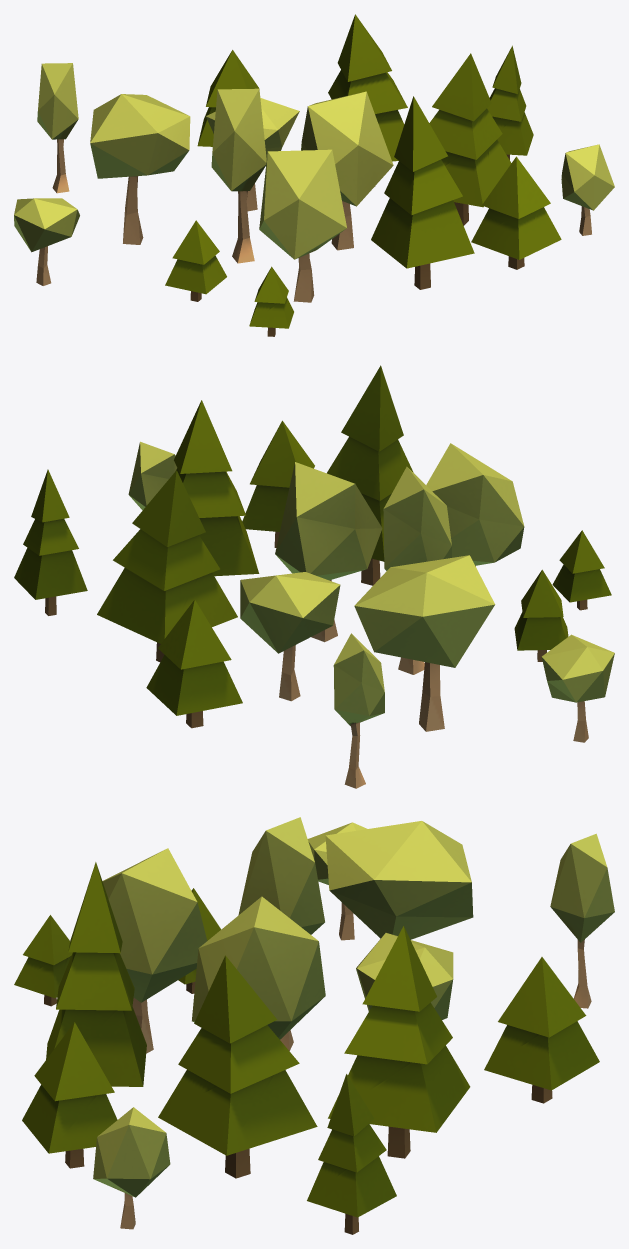
The model's file is PUSHILIN_forest.gltf.glb.
The picture shows the model from 3 angles, top to bottom: view 1: azimuth 30°, elevation 25°; view 2: azimuth 150°, elevation 25°; view 3: azimuth 270°, elevation 25°; orthographic projection. The views are drawn at different scales.
Parts seen in each view (by area): view 1: node-0; view 2: node-0; view 3: node-0.
Part boxes in pixels (x1,y1,x2,y2): node-0: (14, 14, 614, 336); node-0: (14, 365, 614, 788); node-0: (14, 817, 614, 1234).
Bounding box in the file's own units: 2.78 × 0.9865 × 2.15.
1 material, 1 textured.
